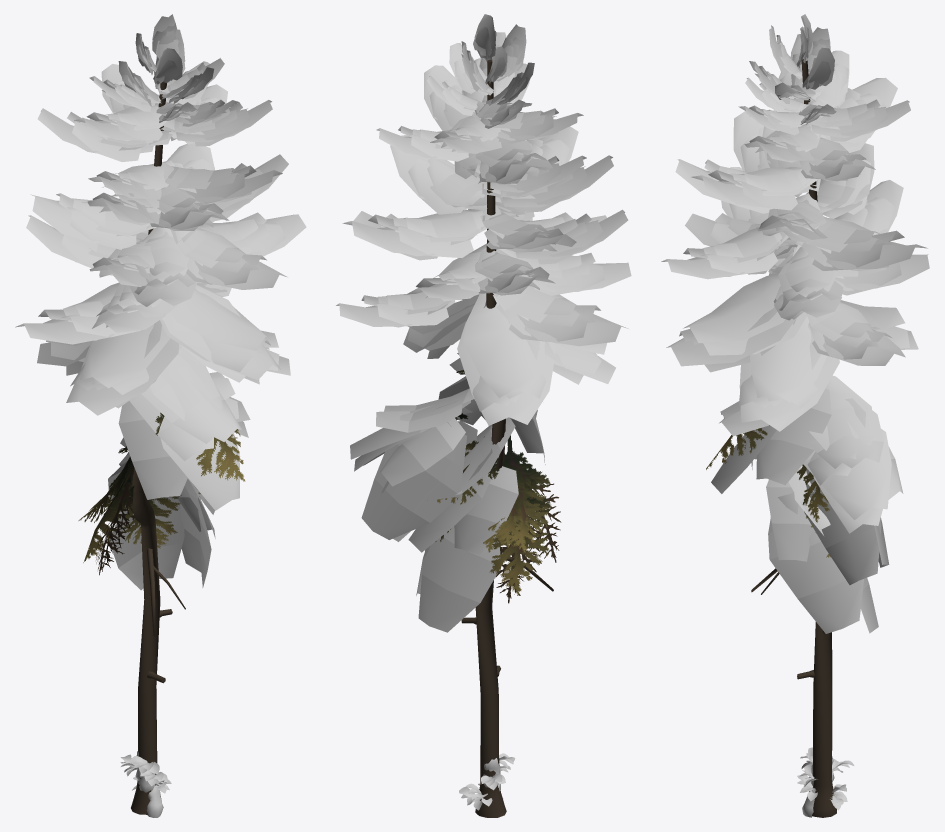
Rendered from Fir_Gr+Ân.L.A.X4.fbx.
3 renders of one model, left to right at view 1: azimuth 30°, elevation 25°; view 2: azimuth 150°, elevation 25°; view 3: azimuth 270°, elevation 25°, orthographic.
Parts seen in each view (by area): view 1: Fir_Grön_L_A_X4; view 2: Fir_Grön_L_A_X4; view 3: Fir_Grön_L_A_X4.
Part boxes in pixels (left/top/right/bottom): Fir_Grön_L_A_X4: left=15, top=14, right=306, bottom=817; Fir_Grön_L_A_X4: left=336, top=14, right=631, bottom=817; Fir_Grön_L_A_X4: left=661, top=14, right=929, bottom=817.
Size of the model in its own units: 565 by 1584 by 483.
